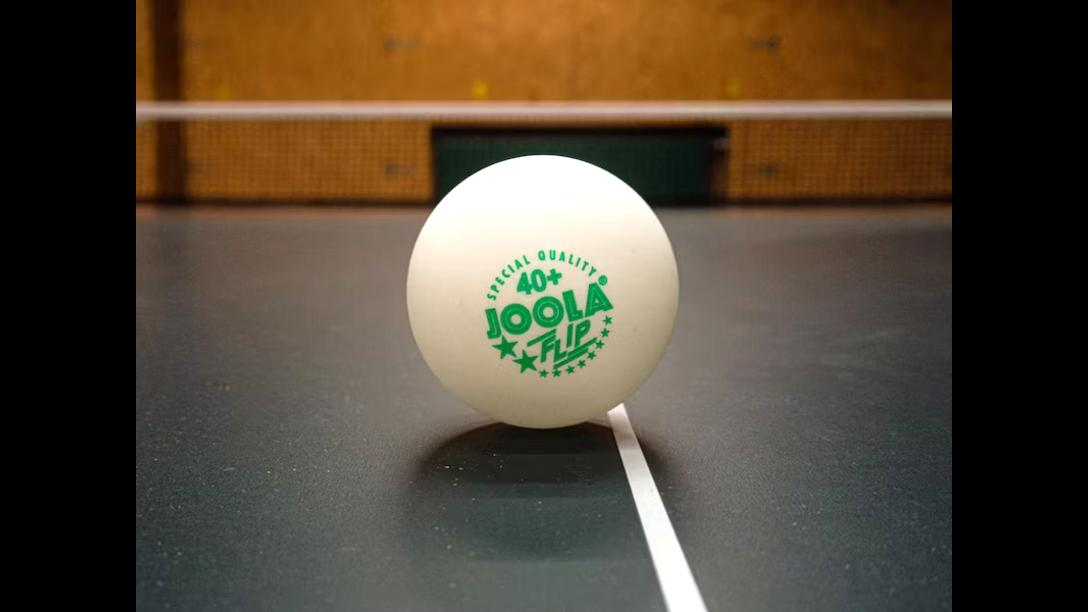Table-Tennis-Ball: (408, 155, 678, 425)
